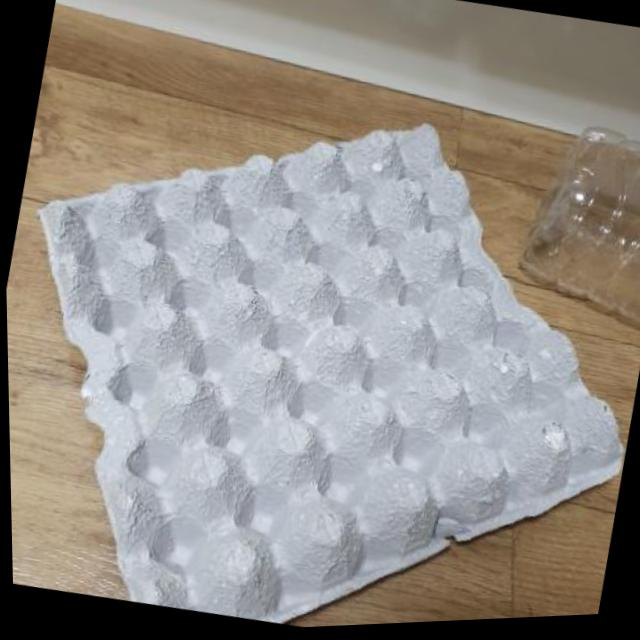box: (1, 27, 640, 640)
